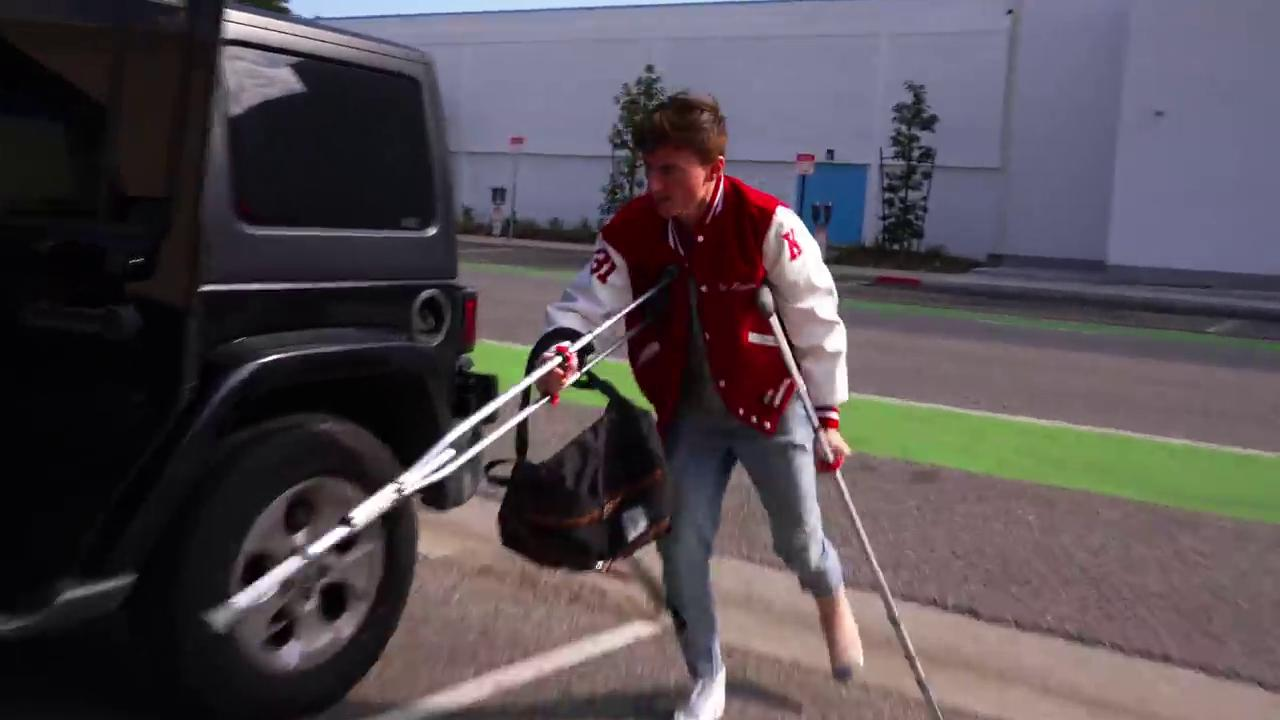crutches: (210, 91, 943, 719)
